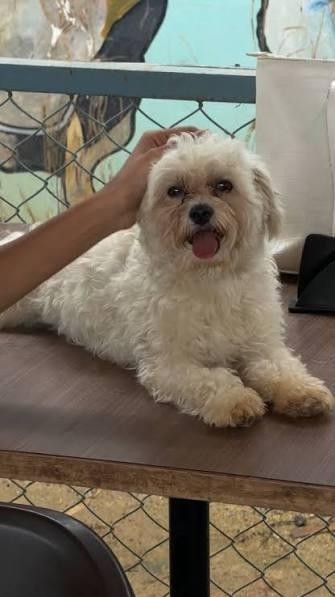adult_dog: (0, 131, 334, 429)
